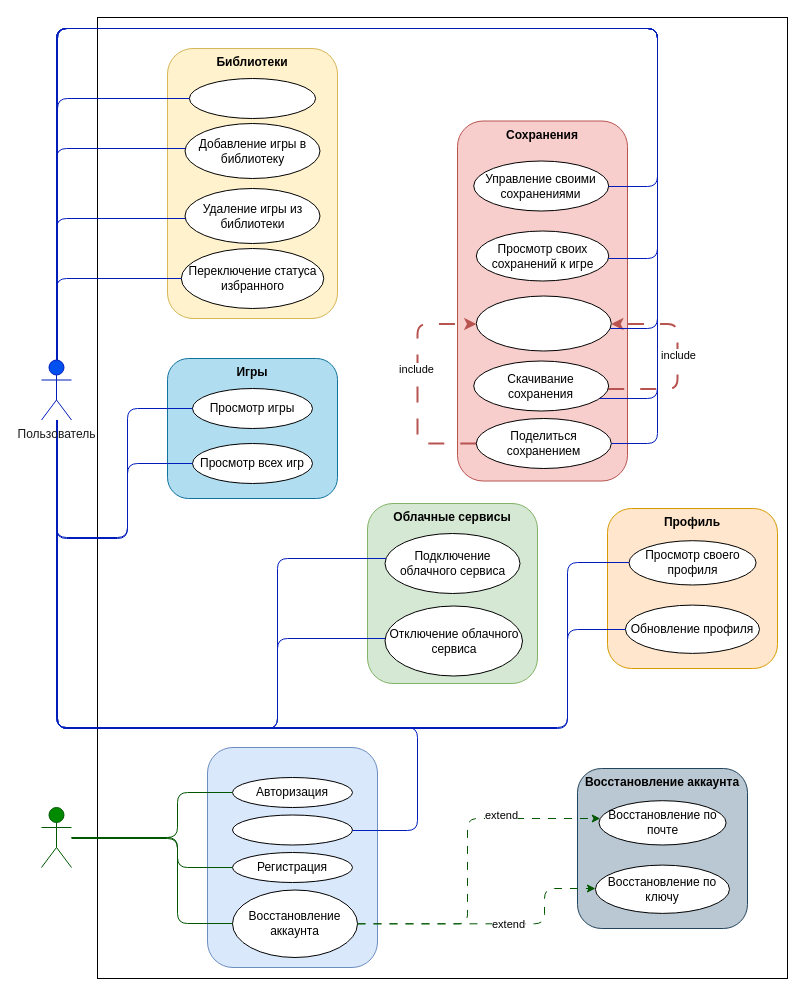
Image size: 805x996. Some labels were removed from this diagram. Here are the shapes that lost their labels. From the top down, the centre of each, then its label:
At (x=252, y=98): "Просмотр своей библиотеки".
At (x=543, y=323): "Синхронизация сохранения".
At (x=56, y=837): "Гость".
At (x=292, y=829): "Выход".
